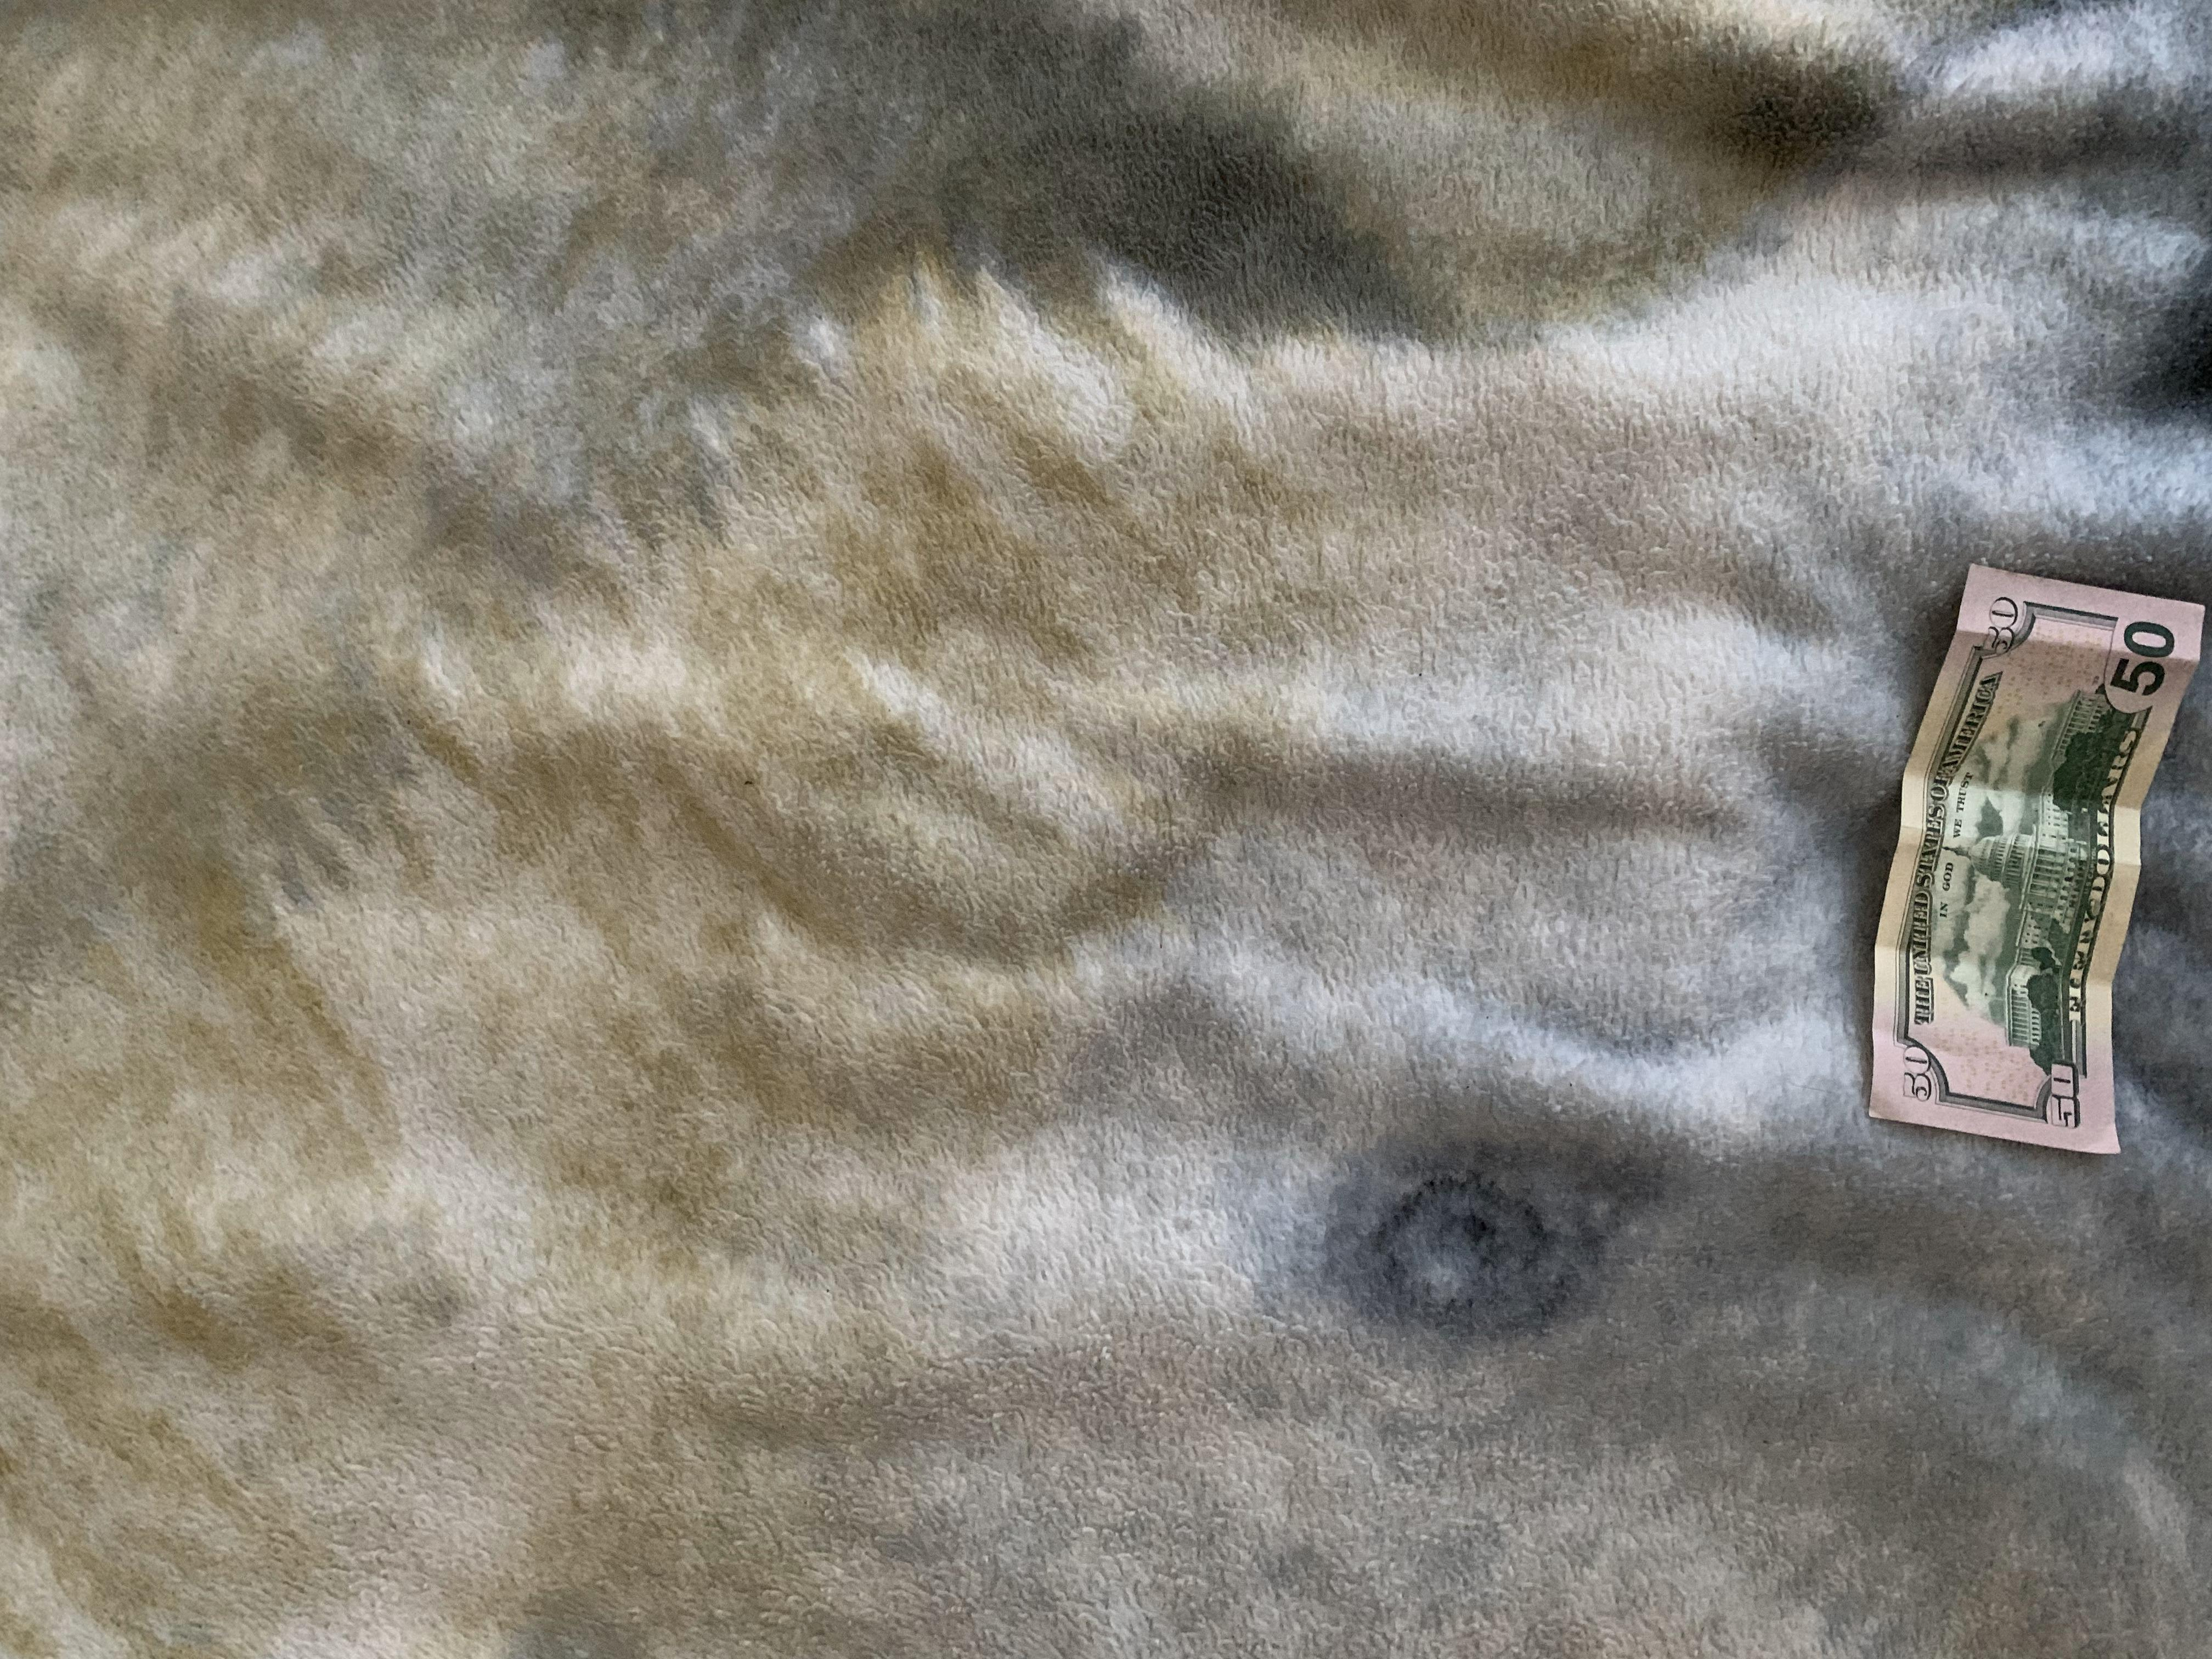FiftyBill: (1855, 563, 2209, 1162)
